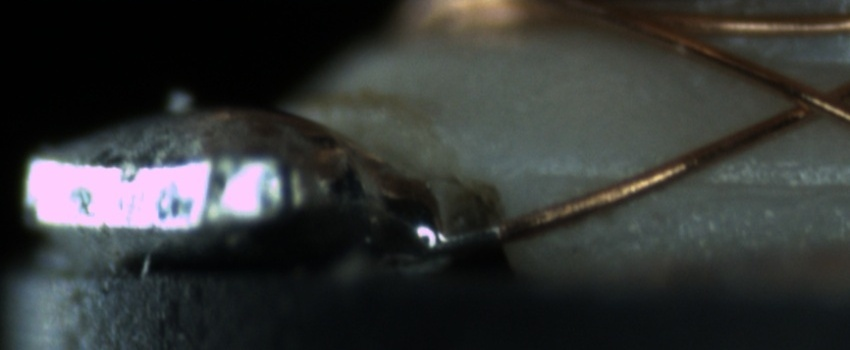CL: (769, 72, 848, 129)
DL: (532, 151, 850, 210)
